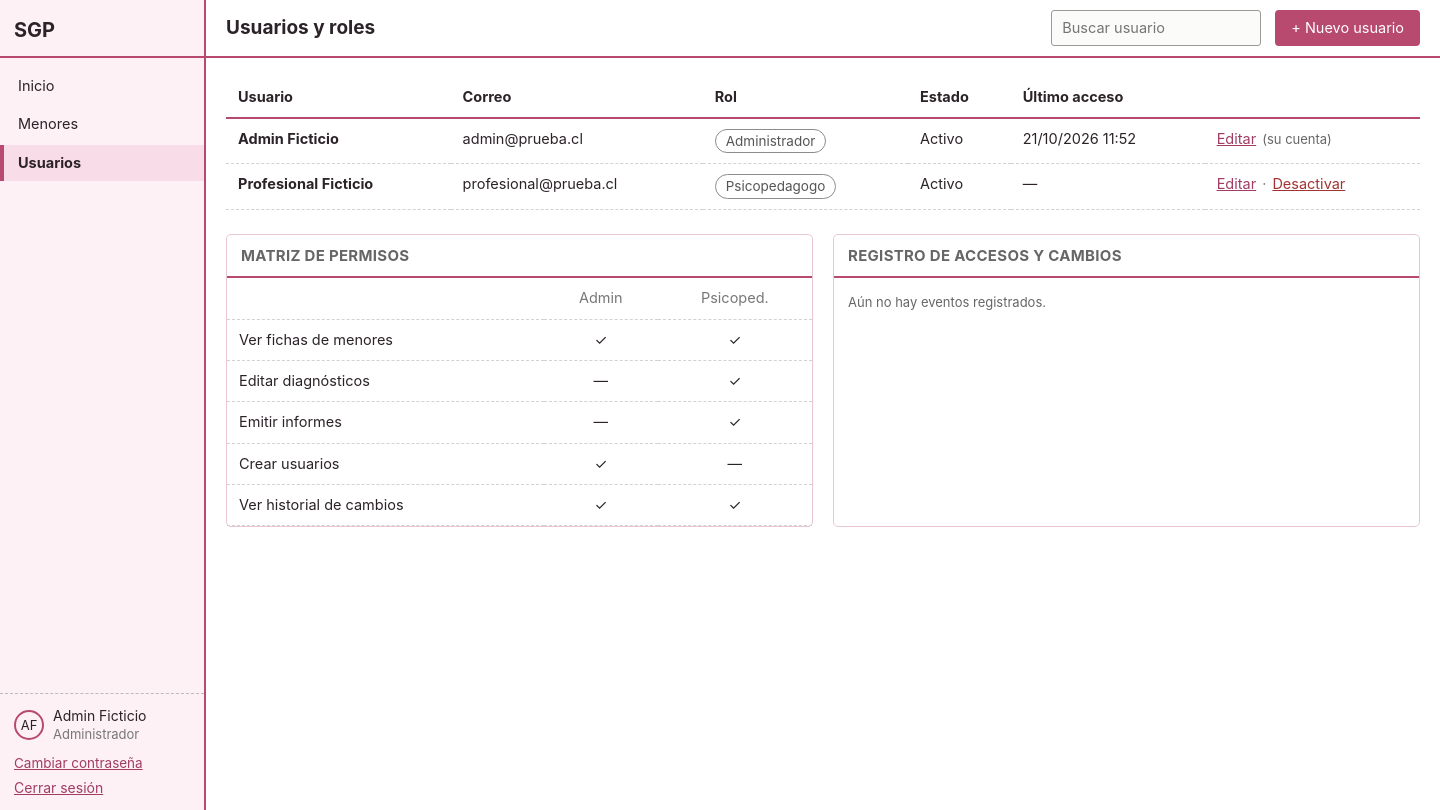
Test: Usuarios y roles (administrador) › muestra los errores devueltos por el servidor
This screenshot has width=1440, height=810.
Expected: the cell "profesional@prueba.cl" is shown, [451,164,703,210]
Click the button "+ Nuevo usuario".
click(1348, 28)  # box [1275,10,1420,46]
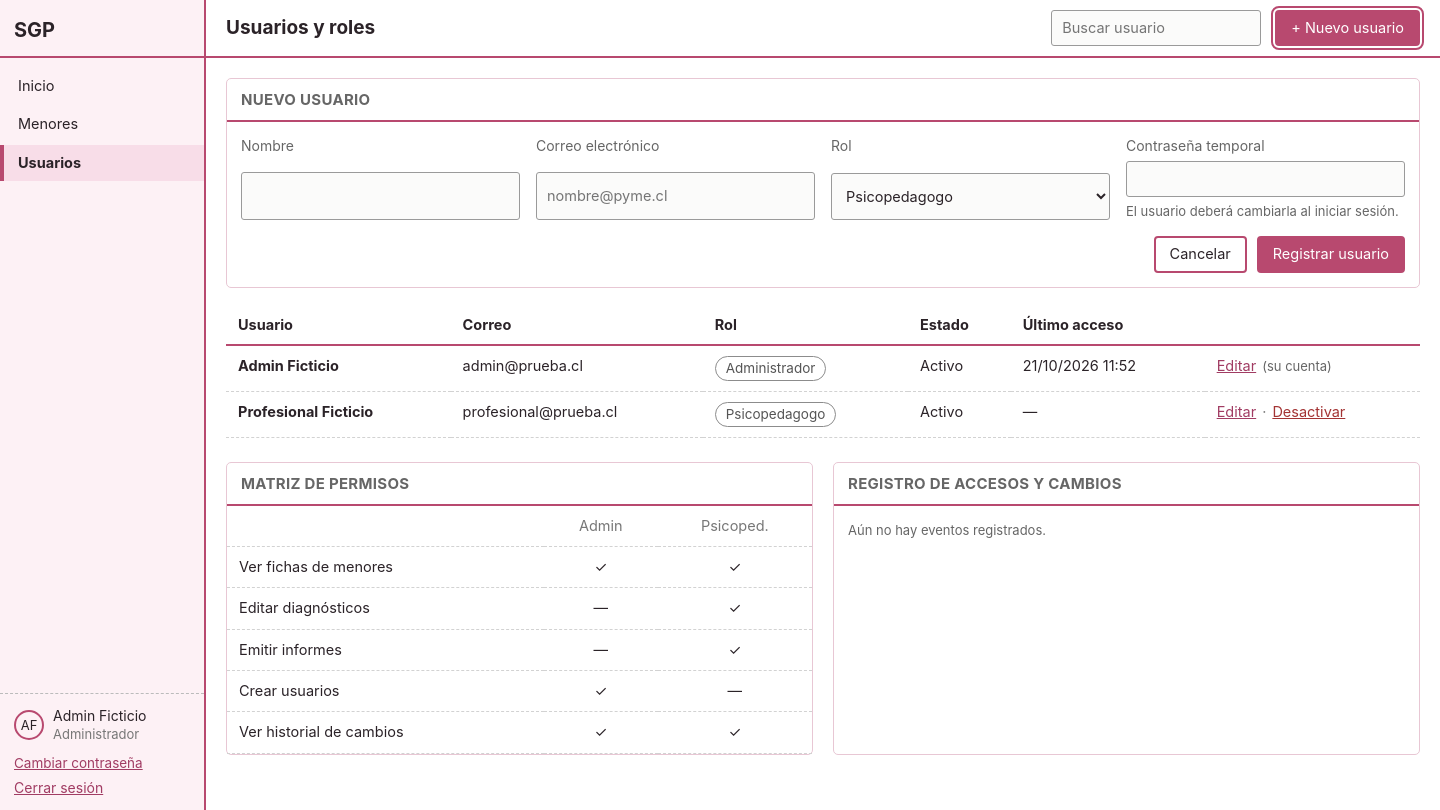
Type "Cuenta Duplicada" into the field labelled "Nombre".
click(380, 196); type("Cuenta Duplicada")  # box [241,172,520,220]
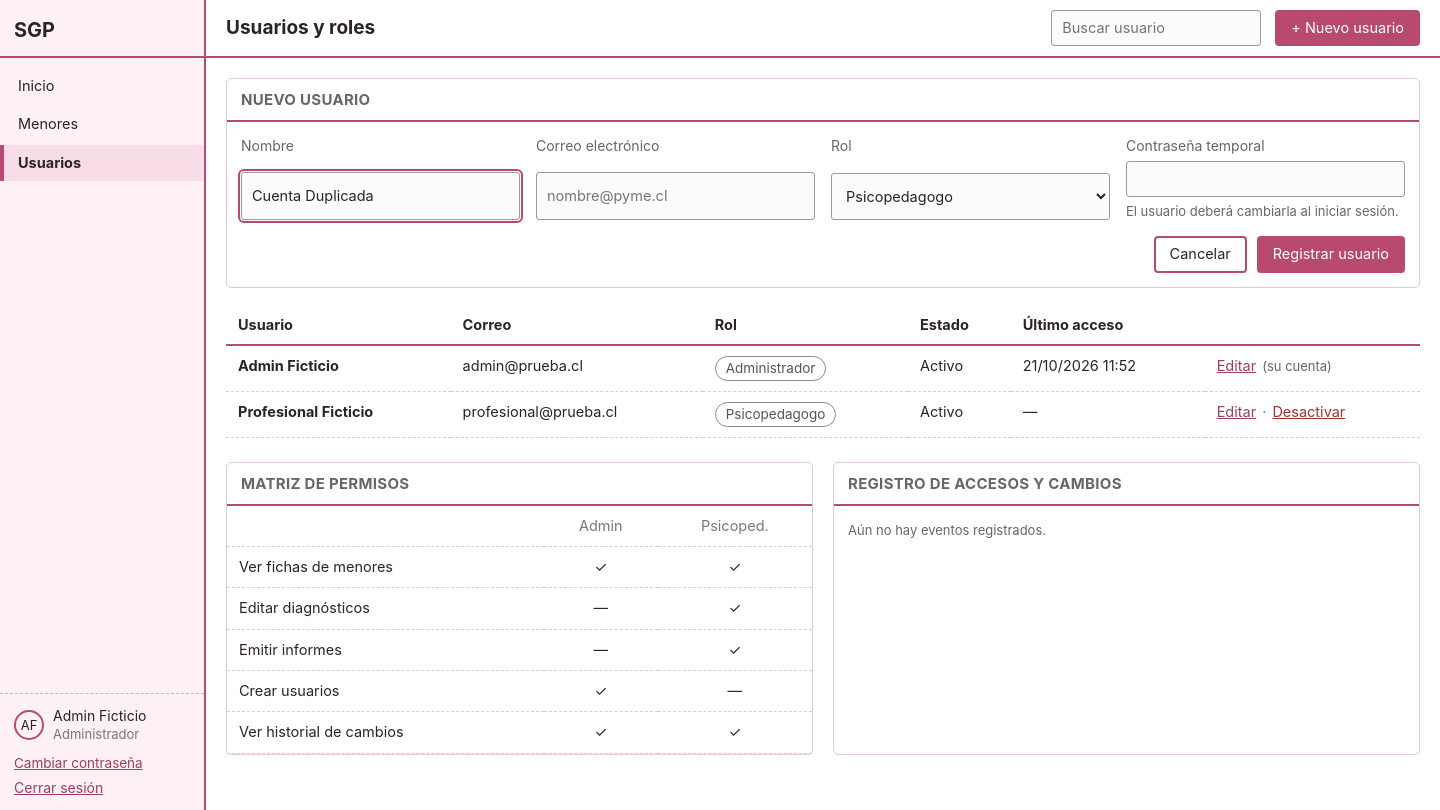
Type "profesional@prueba.cl" into the field labelled "Correo electrónico".
click(676, 196); type("profesional@prueba.cl")  # box [536,172,815,220]
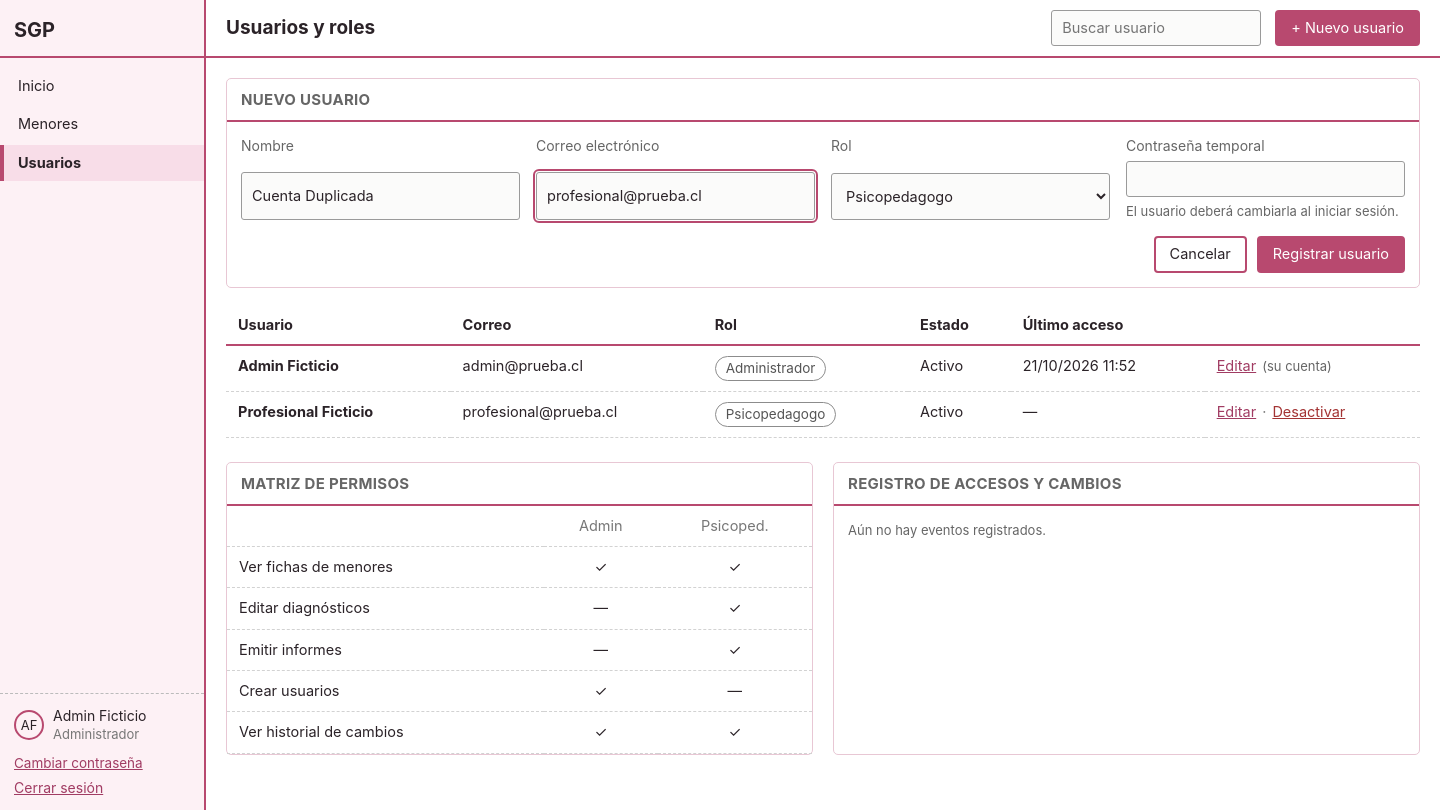
Type "ClaveInicial2024" into the password field labelled "Contraseña temporal".
click(1266, 179); type("ClaveInicial2024")  # box [1126,161,1405,197]
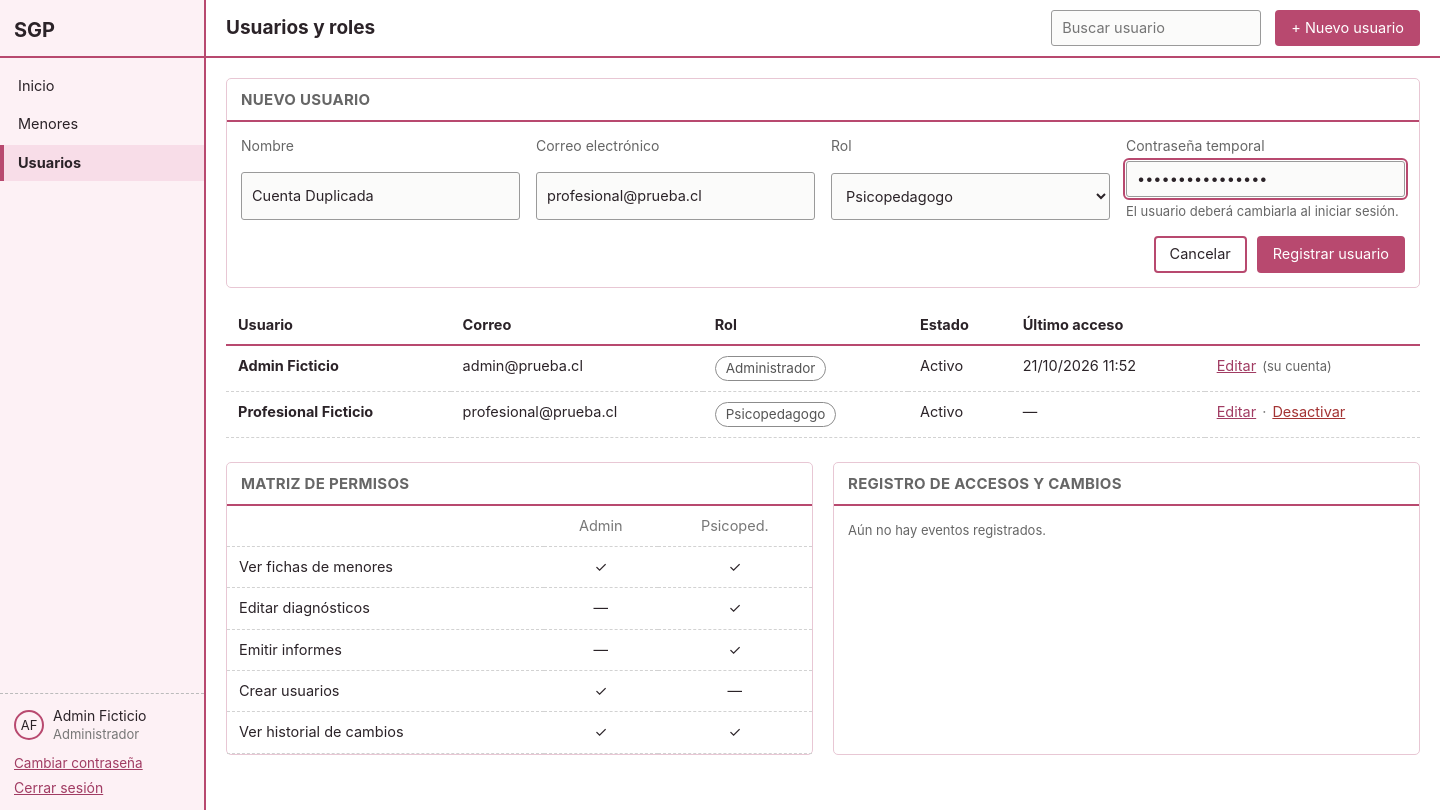
Click the button "Registrar usuario".
click(1331, 255)  # box [1257,236,1405,273]
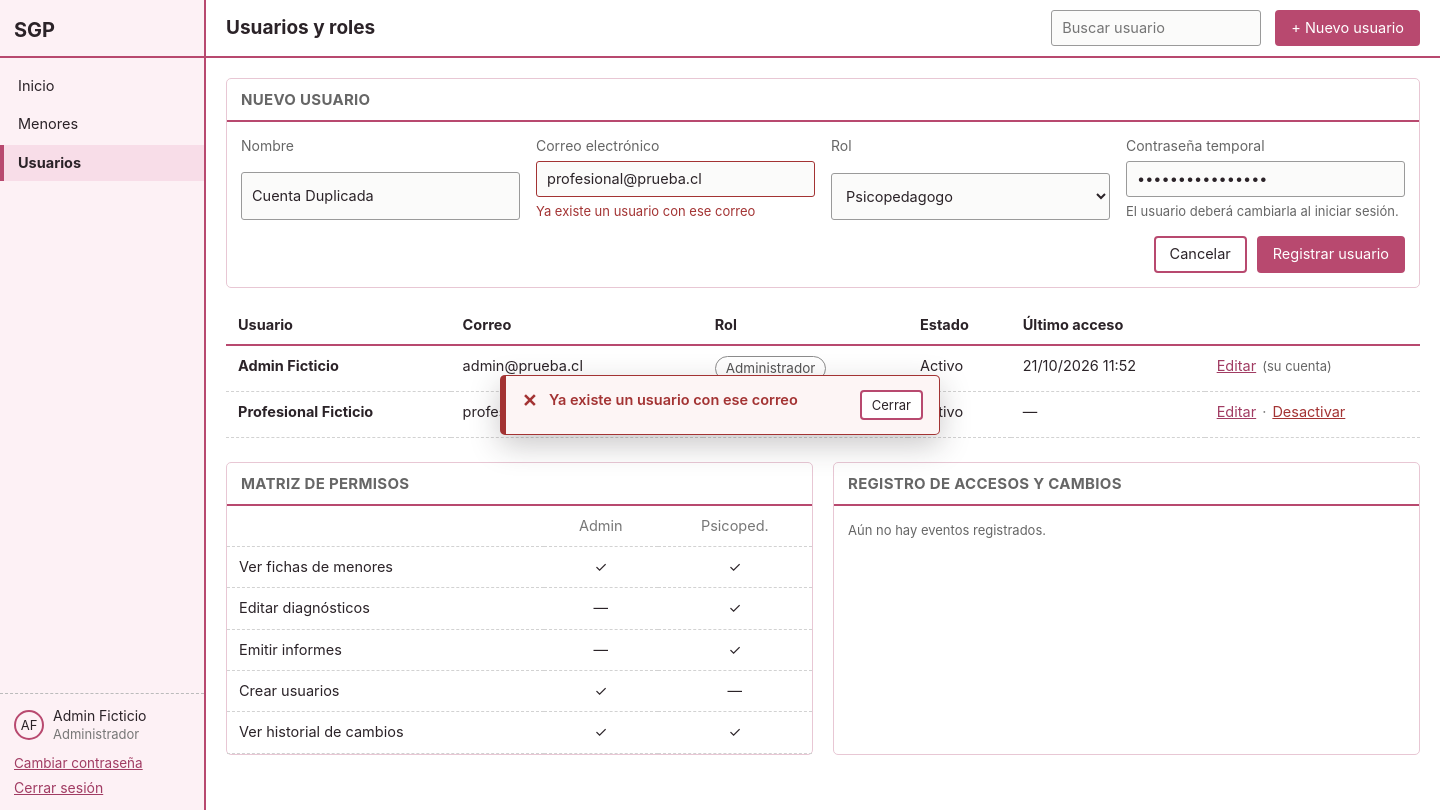
Expected: the message shows "Ya existe un usuario con ese correo", [549,391,798,408]
